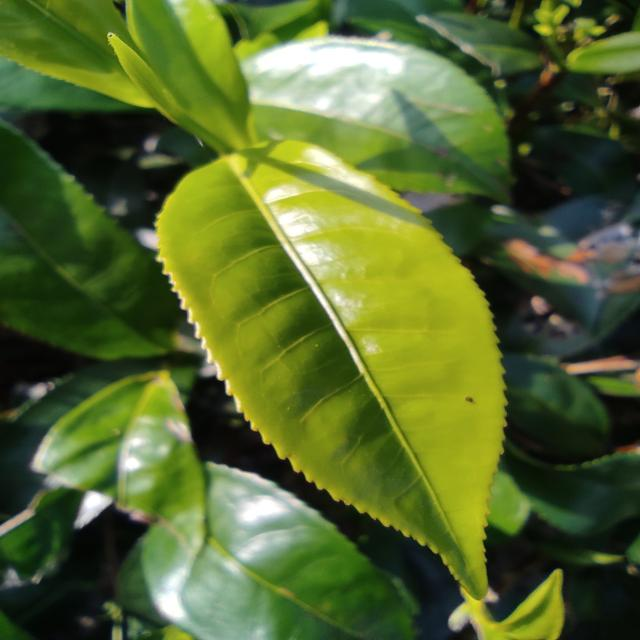Category B(2-4 days): (117, 99, 554, 612)
